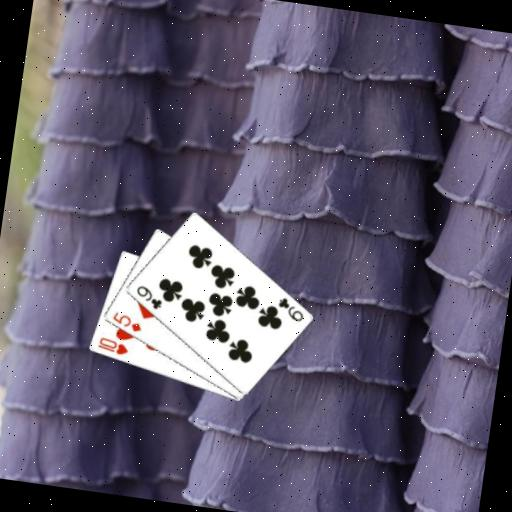10H: (94, 334, 131, 359)
5D: (108, 308, 145, 334)
9C: (131, 281, 166, 312), (272, 293, 307, 324)
